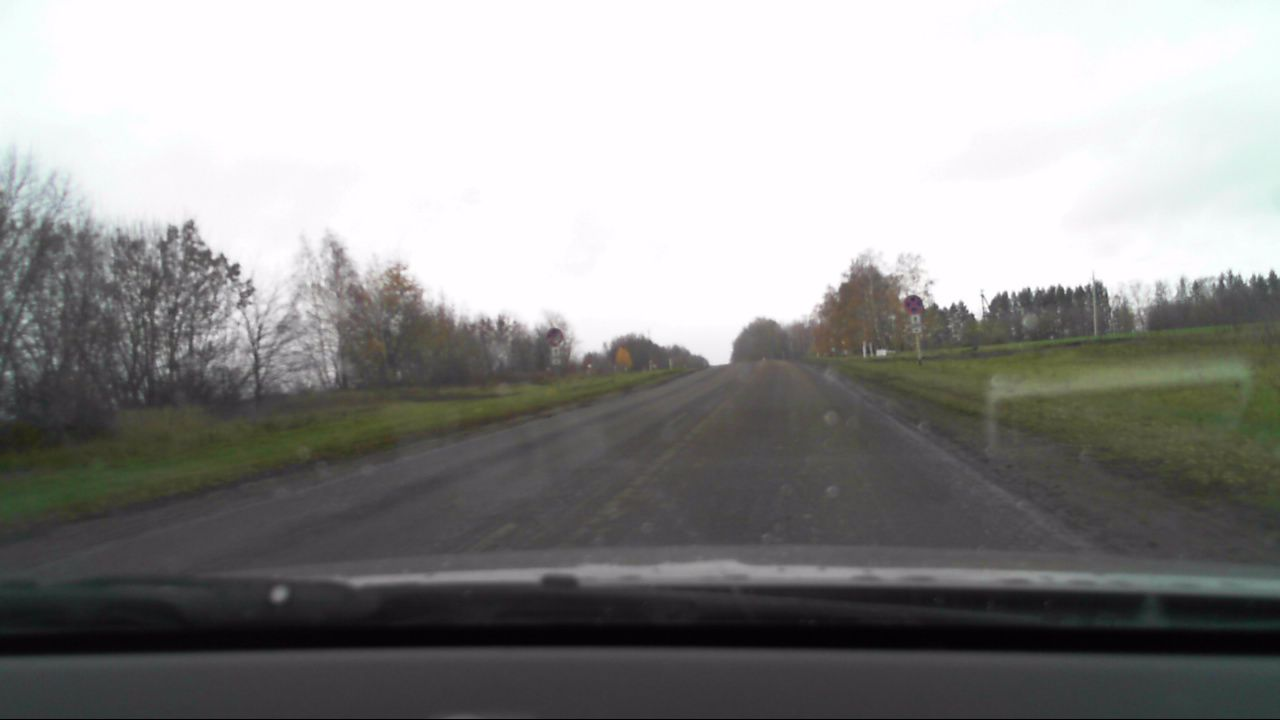No Parking: (544, 325, 564, 346)
